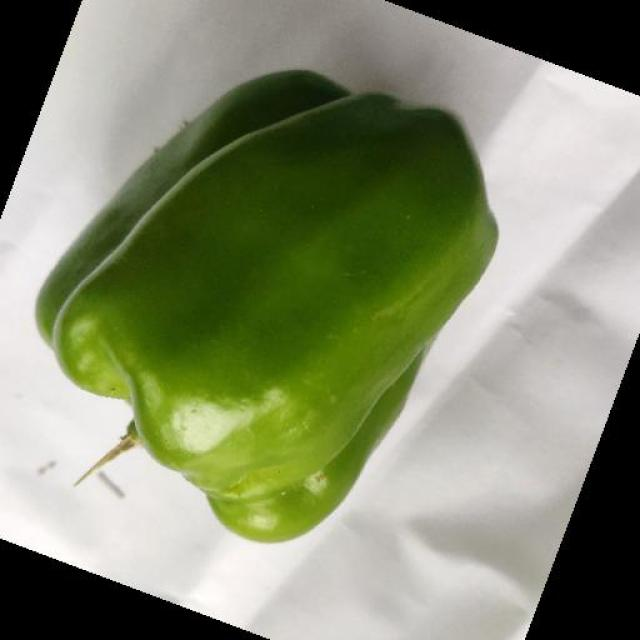Fresh_Capsicum: (56, 56, 441, 518)
